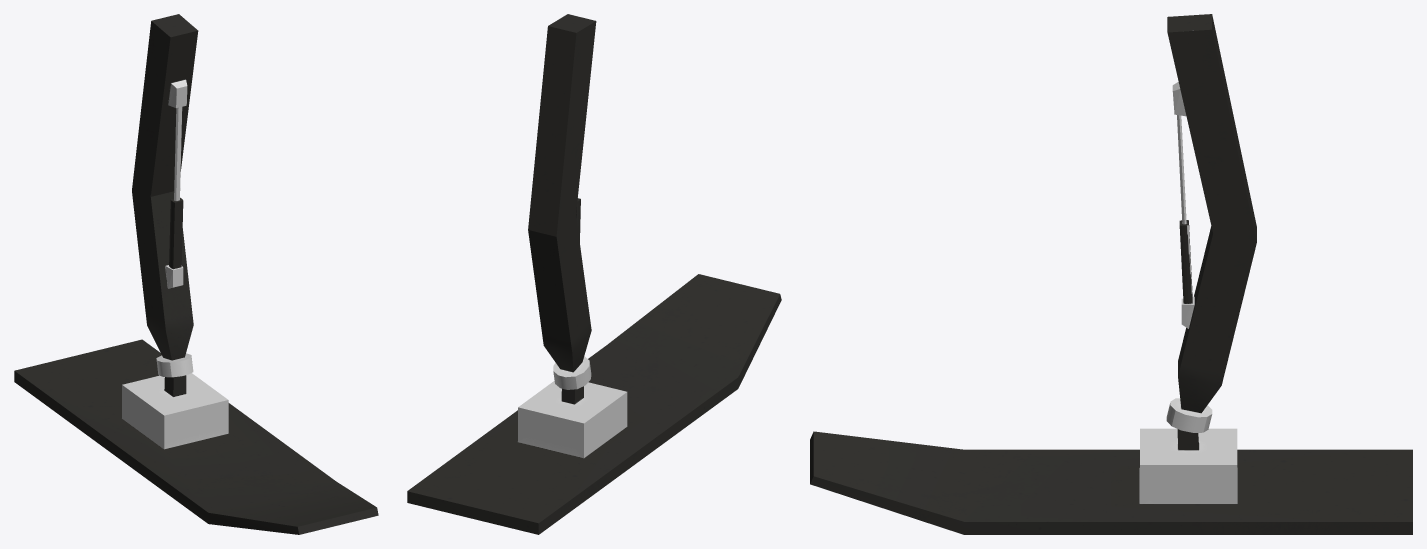
File: Foot Back.obj
3 renders of one model, left to right at view 1: azimuth 30°, elevation 25°; view 2: azimuth 150°, elevation 25°; view 3: azimuth 270°, elevation 25°, orthographic. The views are drawn at different scales.
Parts seen in each view (by area): view 1: Object015; view 2: Object015; view 3: Object015.
Part boxes in pixels (box(x1,y1,x2,y2)): Object015: box(14, 14, 378, 534); Object015: box(407, 14, 781, 534); Object015: box(810, 14, 1412, 534).
Bounding box in the file's own units: 13.53 × 41.69 × 47.74.
Materials: 1 (1 with a texture image).
